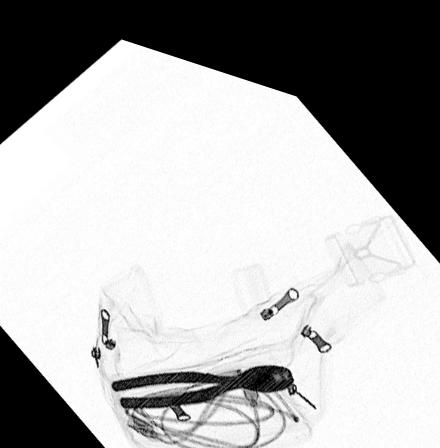Pliers: (109, 346, 294, 400)
